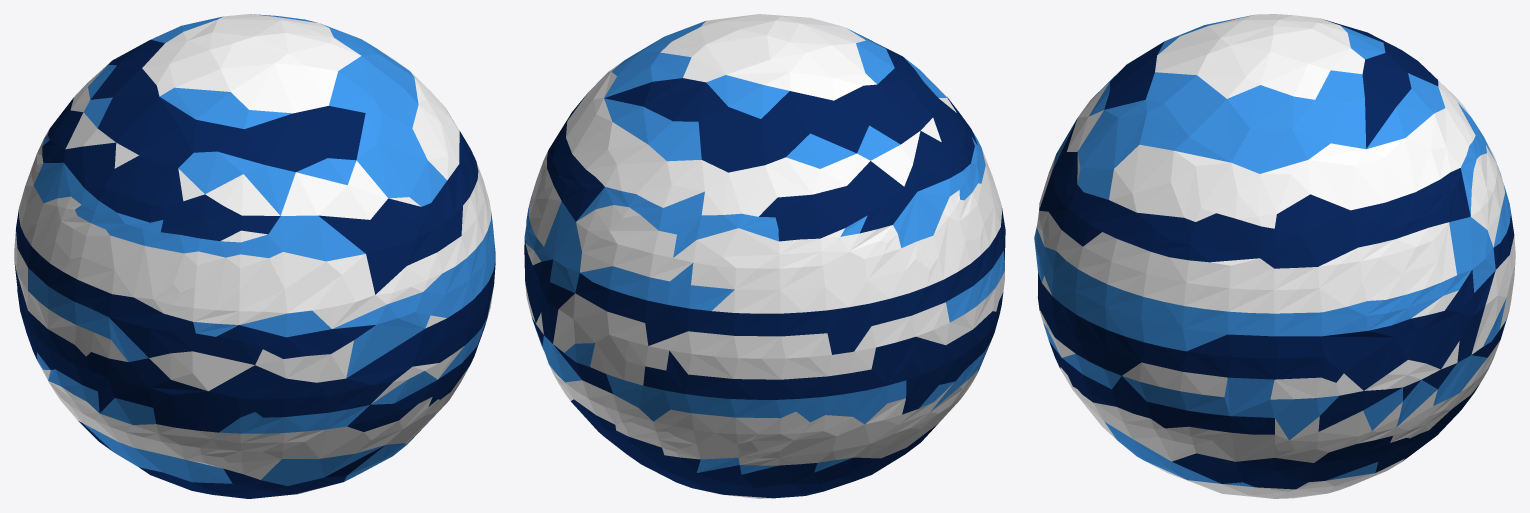
File: Neptune.obj
3 views of the same model, side by side, from view 1: azimuth 30°, elevation 25°; view 2: azimuth 150°, elevation 25°; view 3: azimuth 270°, elevation 25° (orthographic).
Visible parts, largest first — view 1: Sphere002; view 2: Sphere002; view 3: Sphere002.
Boxes of the visible parts, x1,y1,x2,y2 form: Sphere002: (14,14,495,498); Sphere002: (524,14,1005,498); Sphere002: (1034,14,1515,498).
Size of the model in its own units: 15.94 by 16.11 by 15.92.
